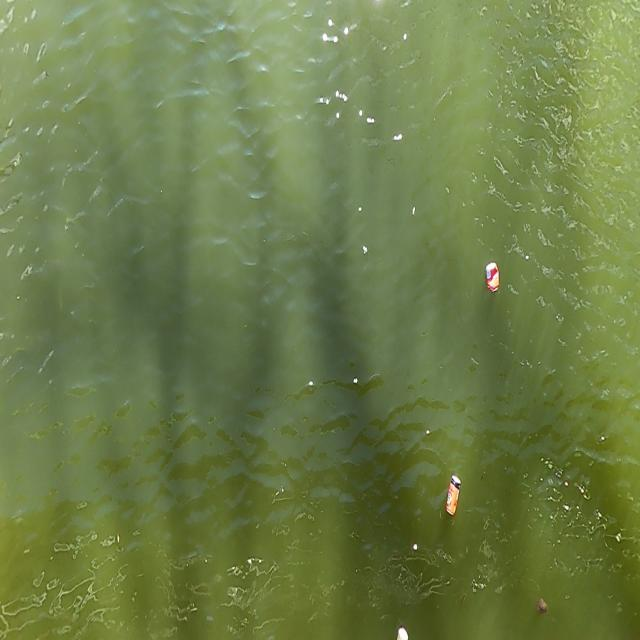Non plastique: (441, 467, 466, 526), (481, 266, 507, 298)
